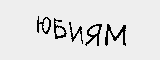Б: (52, 16, 69, 40)
И: (67, 22, 83, 47)
М: (103, 20, 128, 47)
Ю: (34, 15, 53, 36)
Я: (85, 21, 104, 51)
